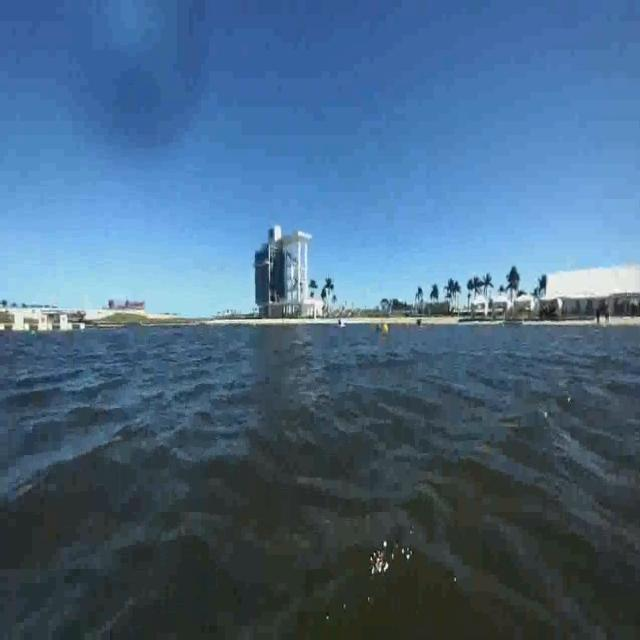yellow-buoy: (383, 321, 390, 334)
